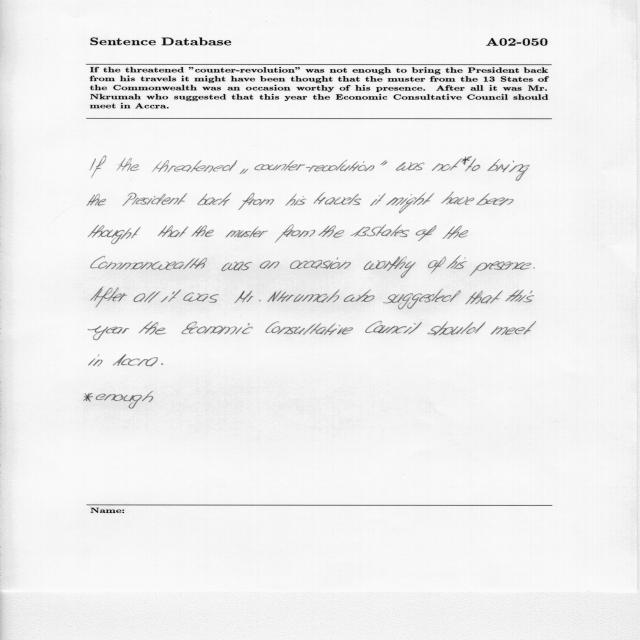word: (383, 289, 461, 310), (91, 256, 207, 270), (254, 159, 375, 172), (363, 256, 416, 278), (266, 322, 354, 335), (96, 391, 153, 409), (152, 160, 237, 172), (386, 193, 434, 214), (268, 289, 340, 303), (88, 225, 141, 244), (487, 159, 530, 181), (181, 322, 253, 335), (470, 261, 531, 276), (427, 321, 486, 336), (123, 193, 188, 206), (365, 321, 422, 334), (275, 225, 316, 243), (290, 258, 351, 270), (91, 288, 127, 308), (491, 321, 536, 335), (314, 192, 362, 205), (89, 326, 130, 341), (238, 193, 274, 210), (432, 156, 472, 171), (113, 355, 158, 367), (465, 291, 503, 305), (367, 225, 410, 237), (476, 193, 514, 206), (198, 192, 232, 206), (226, 227, 268, 238), (441, 192, 474, 205), (344, 289, 375, 302), (183, 292, 219, 303), (139, 321, 167, 335), (505, 290, 534, 303), (443, 225, 469, 239), (158, 226, 188, 238), (90, 156, 106, 178), (318, 225, 344, 238), (416, 225, 437, 241), (134, 291, 161, 303), (234, 291, 261, 303), (221, 262, 252, 272), (428, 257, 446, 274), (117, 158, 140, 171), (191, 225, 214, 237), (285, 193, 306, 206), (446, 256, 467, 269), (161, 290, 181, 303), (396, 162, 424, 171), (87, 194, 106, 206), (370, 193, 386, 206), (351, 227, 371, 237), (260, 260, 280, 269), (89, 355, 103, 367), (465, 159, 476, 172), (84, 393, 93, 401), (472, 165, 481, 171), (240, 169, 249, 174), (381, 160, 388, 166), (162, 363, 164, 365), (533, 268, 535, 269)
